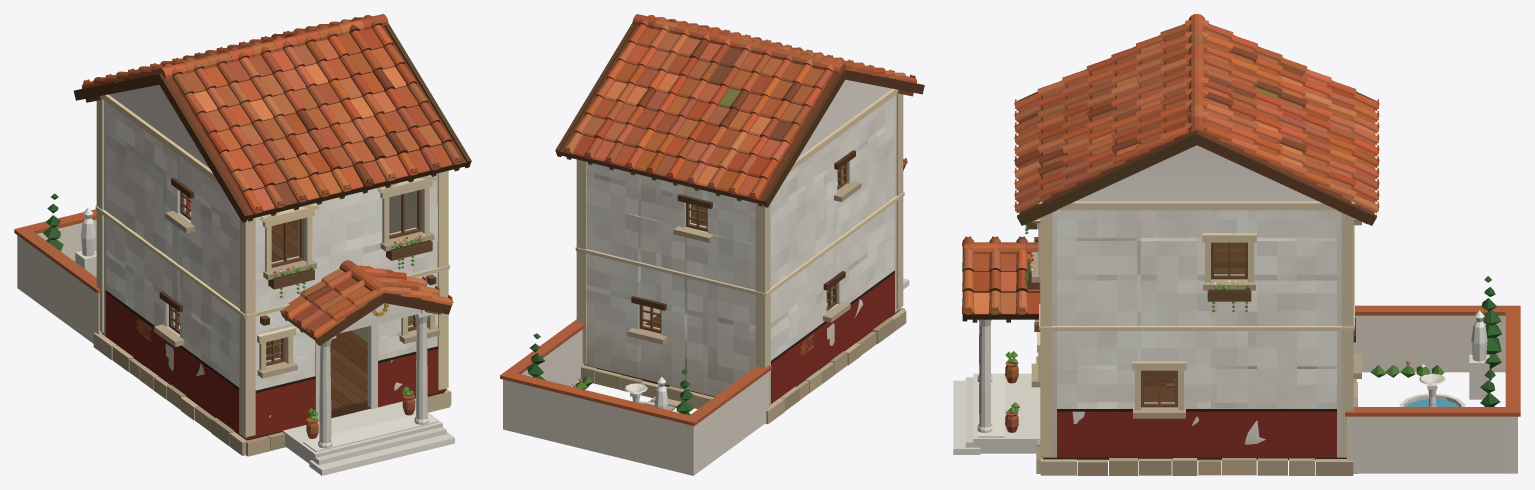
File: patrician_0_2.glb
3 renders of one model, left to right at view 1: azimuth 30°, elevation 25°; view 2: azimuth 150°, elevation 25°; view 3: azimuth 270°, elevation 25°, orthographic. The views are drawn at different scales.
Visible parts, largest first — view 1: House, Walls, Rooms; view 2: House, Walls, Rooms; view 3: House, Walls, Rooms.
Part boxes in pixels (<box>): House: <box>14,14,471,475</box>; Walls: <box>101,85,437,438</box>; Rooms: <box>179,191,415,410</box>; House: <box>500,14,924,475</box>; Walls: <box>583,79,900,404</box>; Rooms: <box>644,173,837,328</box>; House: <box>953,14,1520,475</box>; Walls: <box>1042,145,1346,457</box>; Rooms: <box>1144,242,1244,402</box>.
Size of the model in its own units: 4.11 by 5.76 by 8.43.
3 materials, 3 textured.
